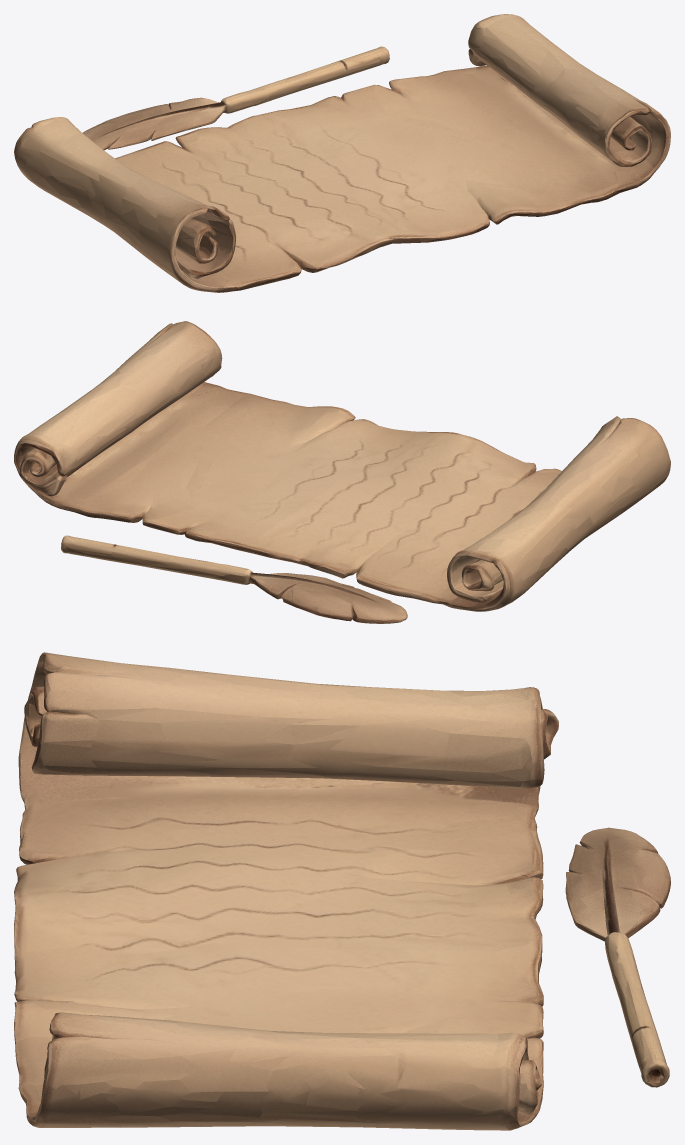
File: prop-writing.glb
The picture shows the model from 3 angles, top to bottom: view 1: azimuth 30°, elevation 25°; view 2: azimuth 150°, elevation 25°; view 3: azimuth 270°, elevation 25°; orthographic projection. The views are drawn at different scales.
Parts seen in each view (by area): view 1: mesh_node; view 2: mesh_node; view 3: mesh_node.
Boxes of the visible parts, x1,y1,x2,y2 form: mesh_node: (14,14,670,292); mesh_node: (14,321,670,623); mesh_node: (14,652,670,1130).
Bounding box in the file's own units: 1.9 × 0.3076 × 1.34.
1 material, 1 textured.
